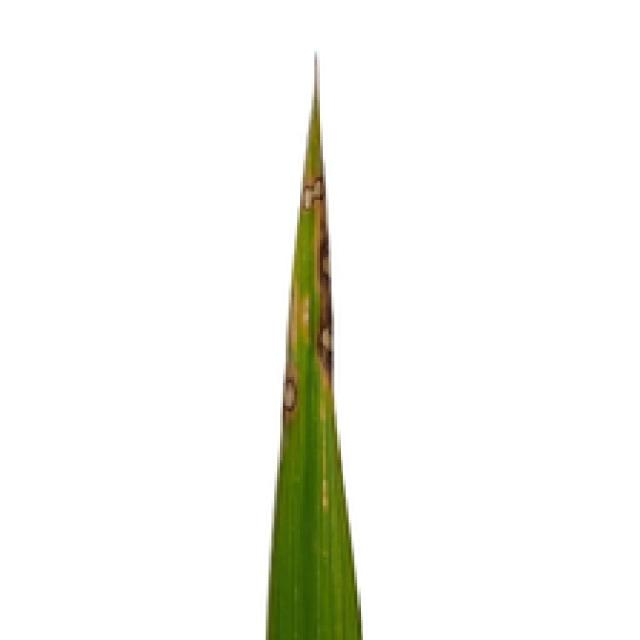Rice___Bacterial_Leaf_Blight: (267, 50, 361, 637)
